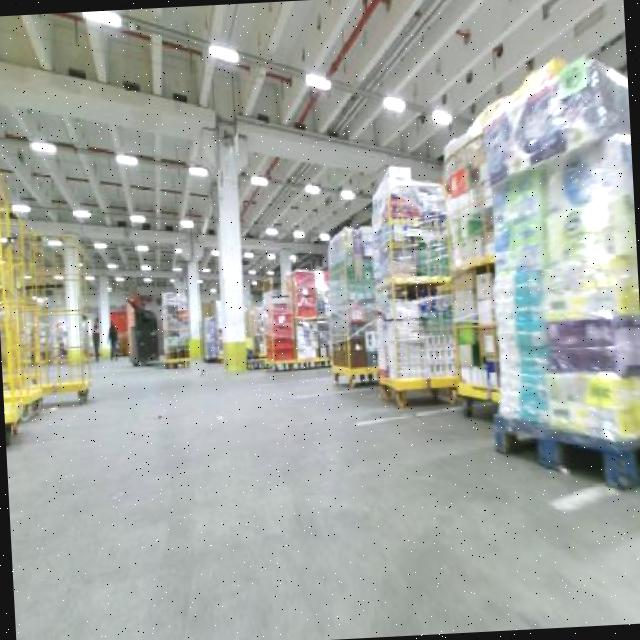pallet: (475, 405, 640, 506)
